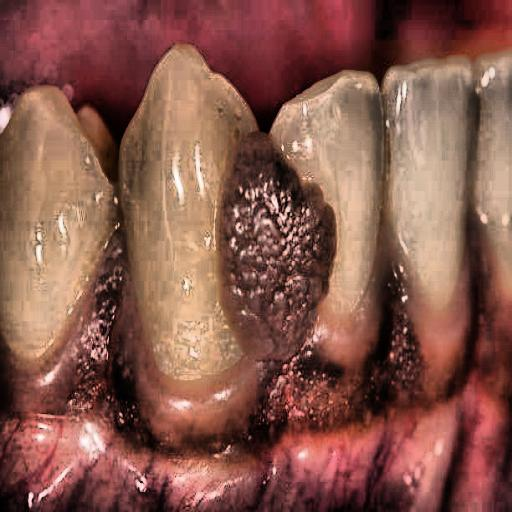Gingivitis: (211, 123, 373, 413), (347, 229, 512, 444), (69, 216, 181, 456)
